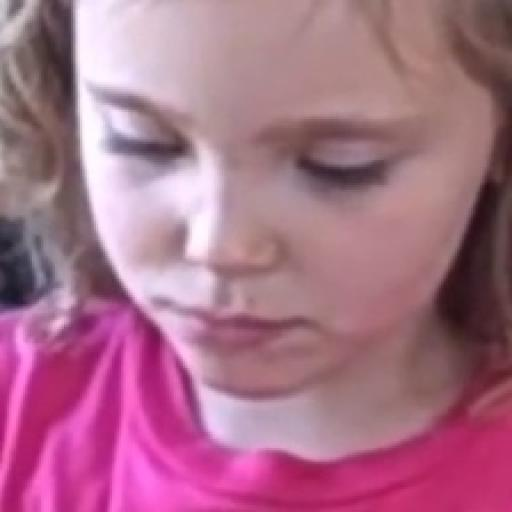Autism: (39, 0, 494, 482)
